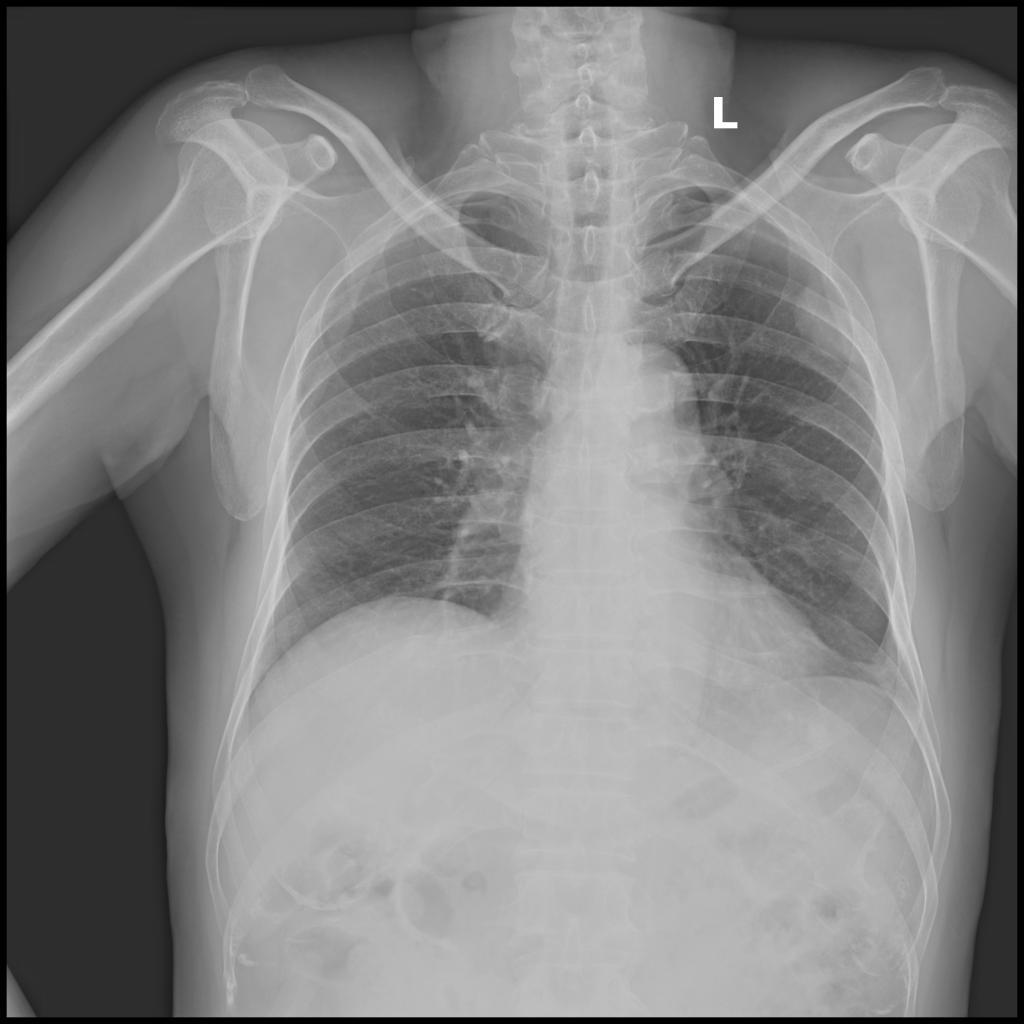Nodule: (796, 275, 864, 368)
